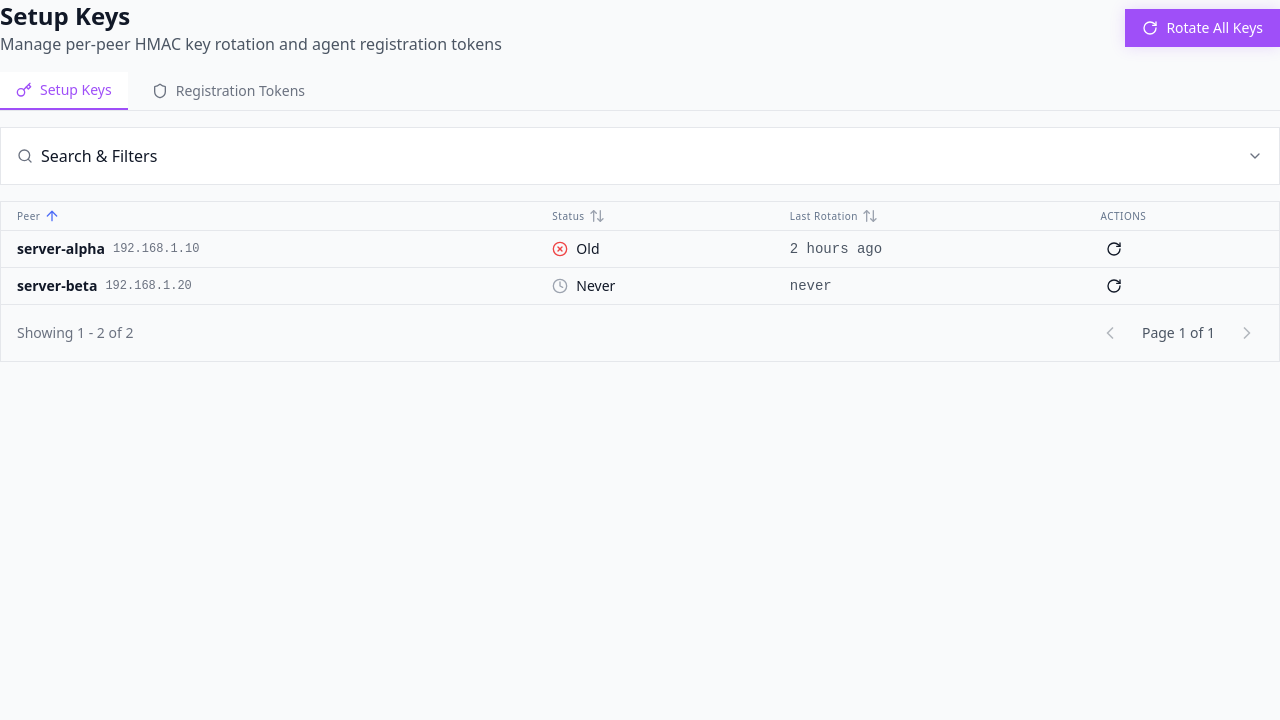
SetupKeys Page › opens generate token modal
Click the button "Registration Tokens": (228, 91) [136,72,321,110]
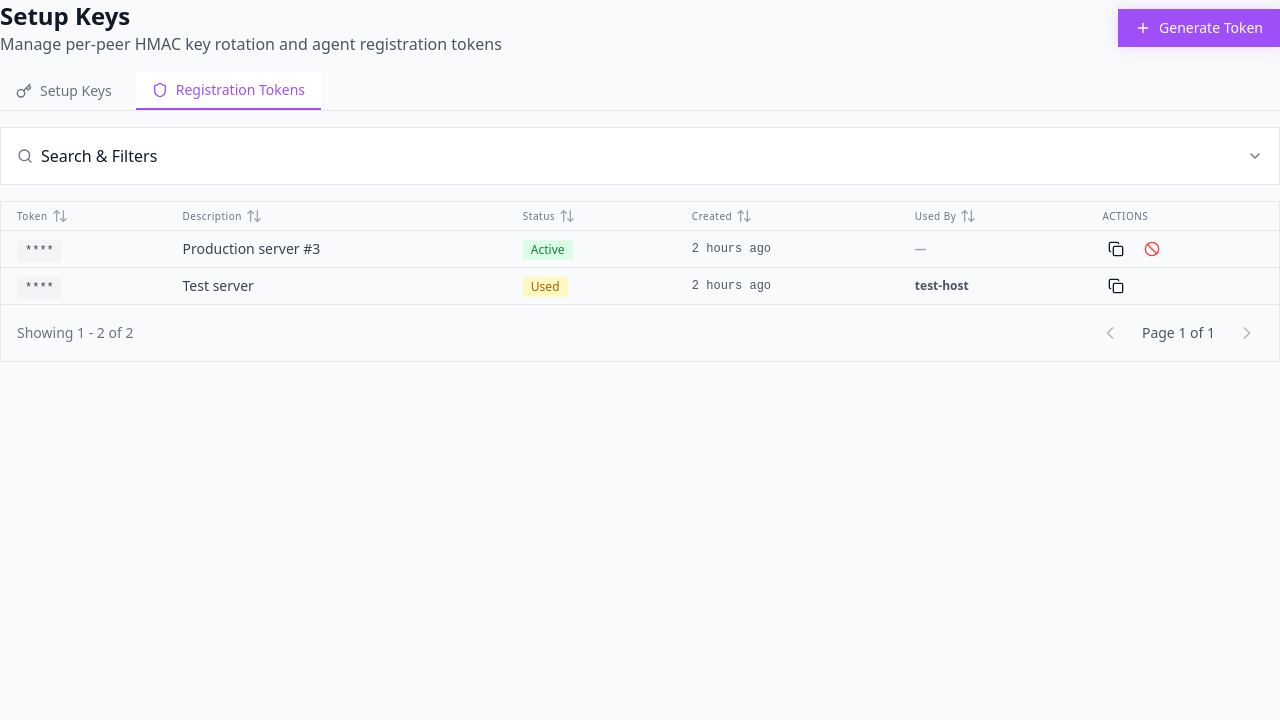
Check: the button "Generate Token" is shown
Click the button "Generate Token": (1199, 28) [1118,9,1279,47]
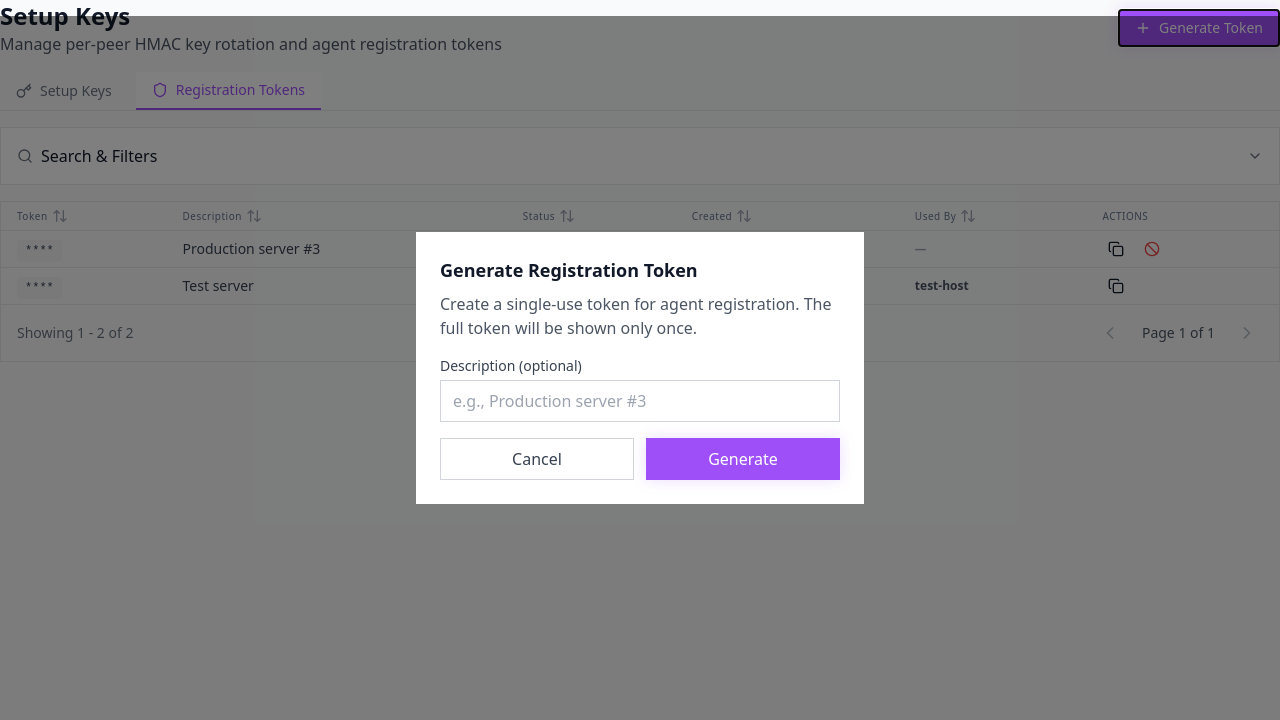
Check: the heading "Generate Registration Token" is shown, box [440,258,698,282]
